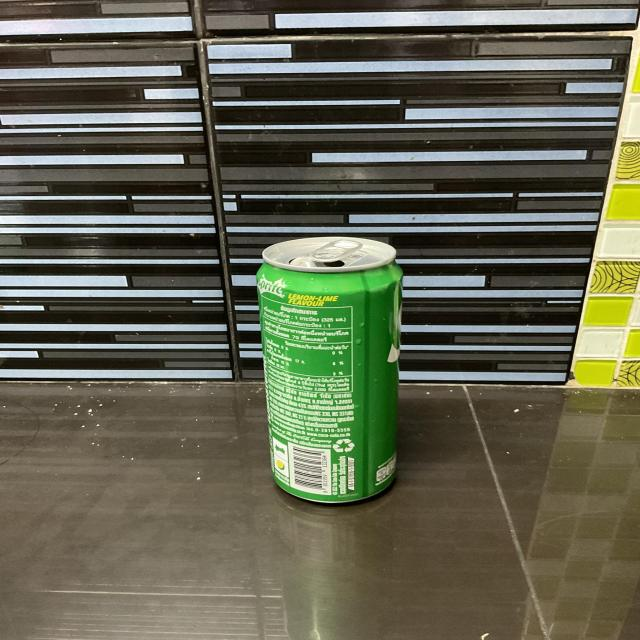can: (256, 234, 406, 506)
